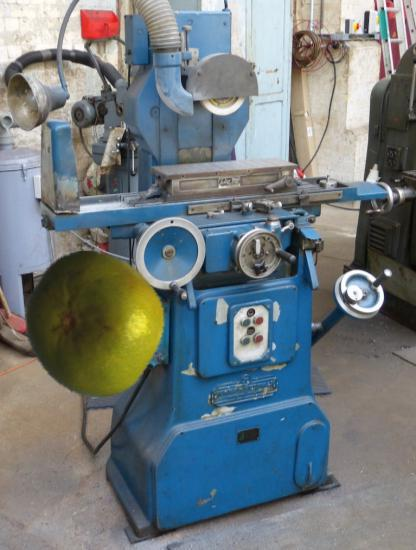Pomelo: (21, 250, 170, 399)
